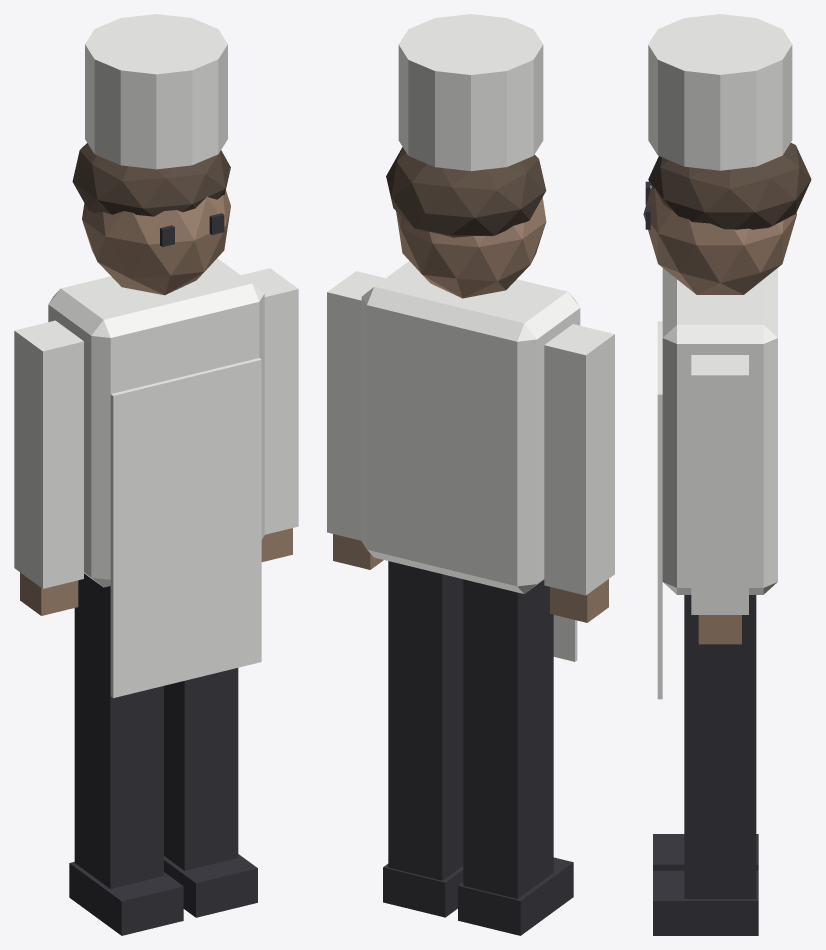
File: sm_customer_cook.glb
3 views of the same model, side by side, from view 1: azimuth 30°, elevation 25°; view 2: azimuth 150°, elevation 25°; view 3: azimuth 270°, elevation 25° (orthographic).
Visible parts, largest first — view 1: cook_apron, cook_body, cook_leg, cook_hat, cook_arm, cook_leg.001, cook_head, cook_arm.001, cook_hair, cook_shoe, cook_shoe.001, cook_hand (+1 smaller); view 2: cook_body, cook_leg, cook_leg.001, cook_hat, cook_arm, cook_hair, cook_arm.001, cook_head, cook_shoe, cook_shoe.001, cook_hand, cook_hand.001 (+1 smaller); view 3: cook_body, cook_hat, cook_leg.001, cook_arm.001, cook_hair, cook_head, cook_shoe.001, cook_apron, cook_hand.001, cook_shoe.
Part boxes in pixels (left/top/right/bottom): cook_apron: left=110, top=358, right=261, bottom=698; cook_body: left=48, top=258, right=264, bottom=587; cook_leg: left=74, top=573, right=163, bottom=888; cook_hat: left=85, top=14, right=227, bottom=169; cook_arm: left=14, top=320, right=83, bottom=588; cook_leg.001: left=164, top=668, right=238, bottom=870; cook_head: left=82, top=190, right=230, bottom=295; cook_arm.001: left=241, top=268, right=298, bottom=534; cook_hair: left=72, top=143, right=230, bottom=216; cook_shoe: left=69, top=862, right=183, bottom=935; cook_shoe.001: left=164, top=854, right=257, bottom=917; cook_hand: left=20, top=572, right=78, bottom=615; cook_body: left=361, top=261, right=580, bottom=593; cook_leg: left=463, top=579, right=553, bottom=898; cook_leg.001: left=388, top=561, right=463, bottom=880; cook_hat: left=398, top=14, right=543, bottom=170; cook_arm: left=544, top=324, right=614, bottom=595; cook_hair: left=386, top=147, right=546, bottom=237; cook_arm.001: left=327, top=271, right=385, bottom=540; cook_head: left=396, top=198, right=546, bottom=298; cook_shoe: left=458, top=857, right=573, bottom=935; cook_shoe.001: left=383, top=864, right=463, bottom=917; cook_hand: left=550, top=579, right=608, bottom=622; cook_hand.001: left=333, top=534, right=383, bottom=569; cook_body: left=662, top=268, right=777, bottom=594; cook_hat: left=648, top=14, right=792, bottom=170; cook_leg.001: left=684, top=595, right=756, bottom=898; cook_arm.001: left=691, top=355, right=748, bottom=614; cook_hair: left=648, top=143, right=811, bottom=229; cook_head: left=643, top=187, right=796, bottom=294; cook_shoe.001: left=653, top=870, right=758, bottom=935; cook_apron: left=657, top=321, right=662, bottom=699; cook_hand.001: left=698, top=615, right=741, bottom=644; cook_shoe: left=653, top=834, right=758, bottom=870.
Size of what is drawn, in the model's own units: 0.62 by 1.97 by 0.35.
